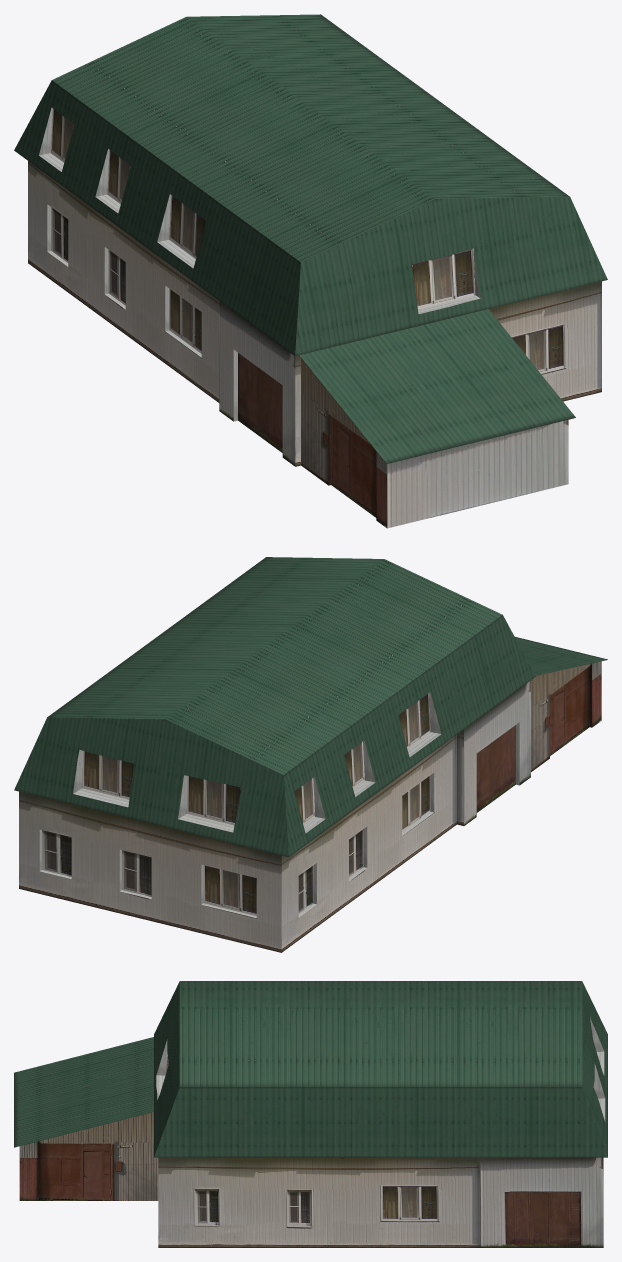
Rendered from r402_ishim_domik14.FBX.
3 views of the same model, one above another, from view 1: azimuth 30°, elevation 25°; view 2: azimuth 150°, elevation 25°; view 3: azimuth 270°, elevation 25° (orthographic). The views are drawn at different scales.
Parts seen in each view (by area): view 1: r402_ishim_domik14; view 2: r402_ishim_domik14; view 3: r402_ishim_domik14.
Boxes of the visible parts, x1,y1,x2,y2 form: r402_ishim_domik14: (14,14,607,528); r402_ishim_domik14: (14,557,607,952); r402_ishim_domik14: (14,981,607,1247).
Size of the model in its own units: 1004 by 2044 by 677.
